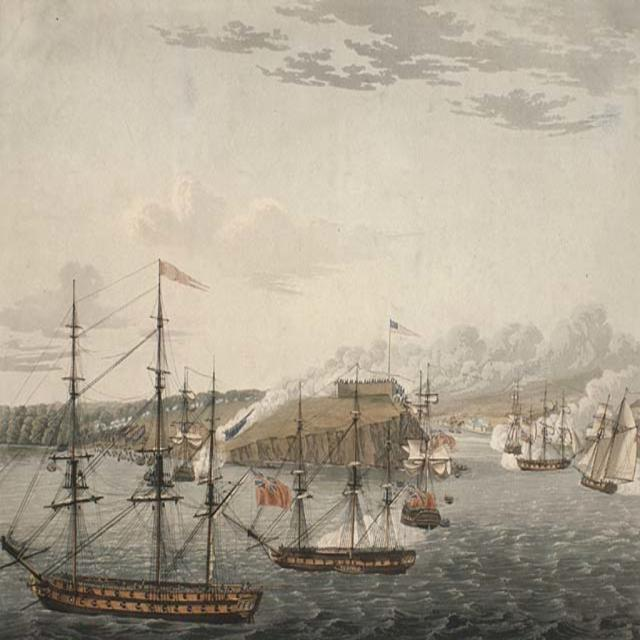Boat: (0, 256, 269, 628), (208, 349, 461, 586), (569, 384, 639, 498), (510, 376, 575, 478), (169, 361, 195, 487), (490, 374, 524, 462)
